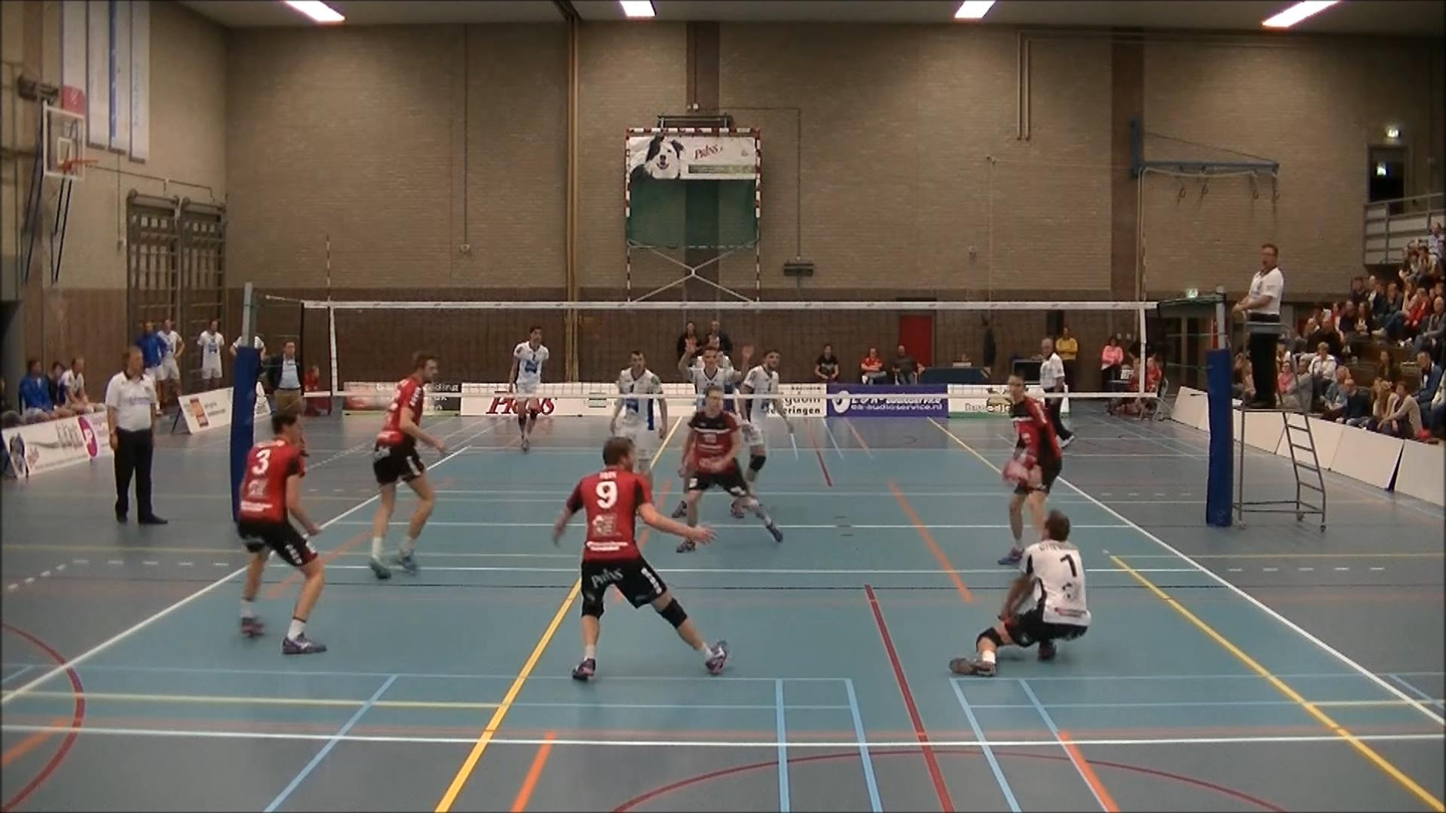ricezione: (946, 509, 1093, 676)
